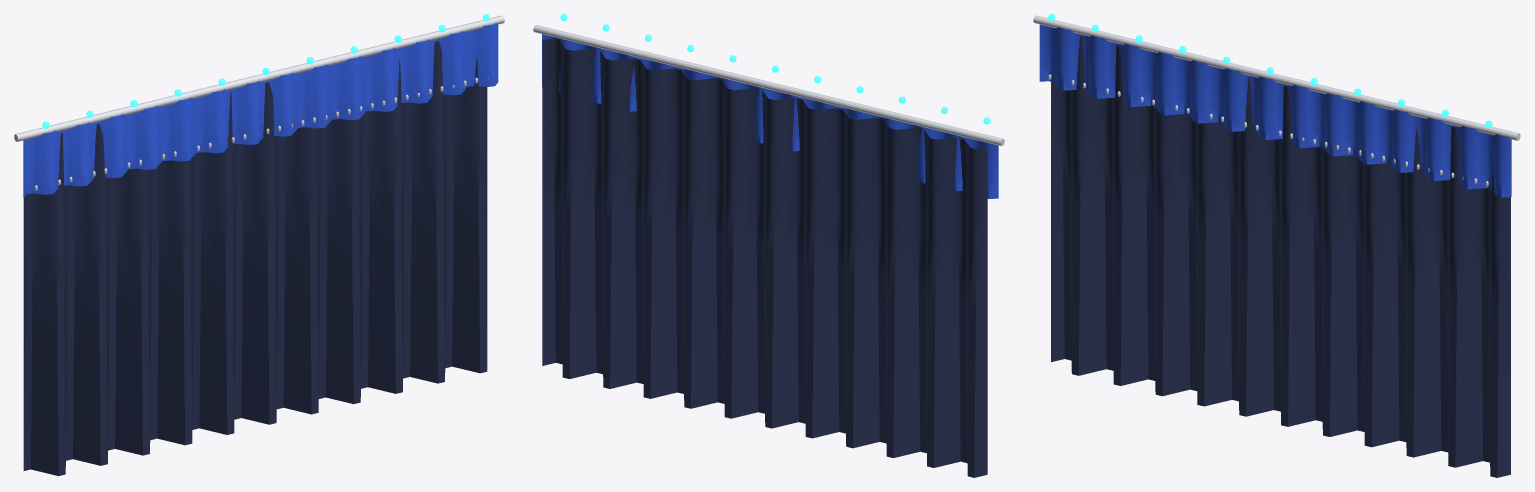
Rendered from stage_curtain_velvet.glb.
The picture shows the model from 3 angles, left to right: view 1: azimuth 30°, elevation 25°; view 2: azimuth 150°, elevation 25°; view 3: azimuth 330°, elevation 25°; orthographic projection. The views are drawn at different scales.
Parts seen in each view (by area): view 1: stage_curtain_velvet; view 2: stage_curtain_velvet; view 3: stage_curtain_velvet.
Boxes of the visible parts, <box> form: stage_curtain_velvet: <box>14,14,504,476</box>; stage_curtain_velvet: <box>533,14,1004,477</box>; stage_curtain_velvet: <box>1033,14,1520,477</box>.
Bounding box in the file's own units: 4.2 × 2.98 × 0.2939.
